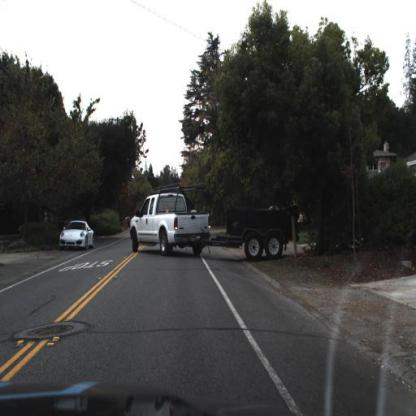car: (128, 187, 300, 267), (59, 218, 97, 254)
